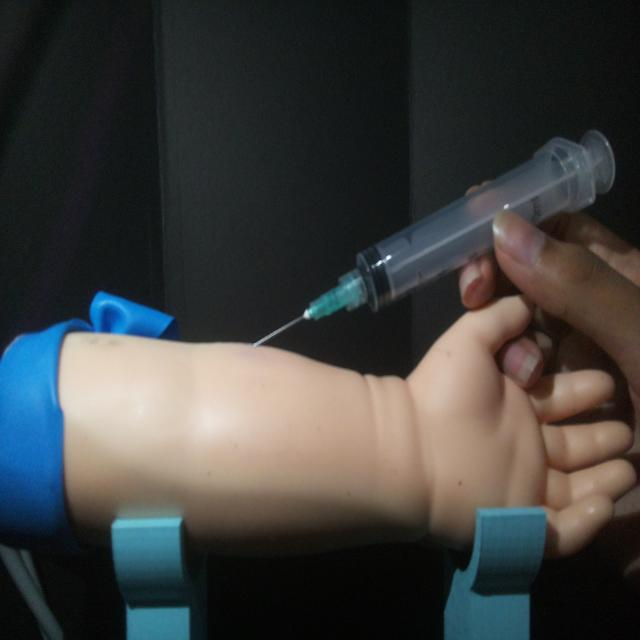25deg: (248, 122, 619, 352)
